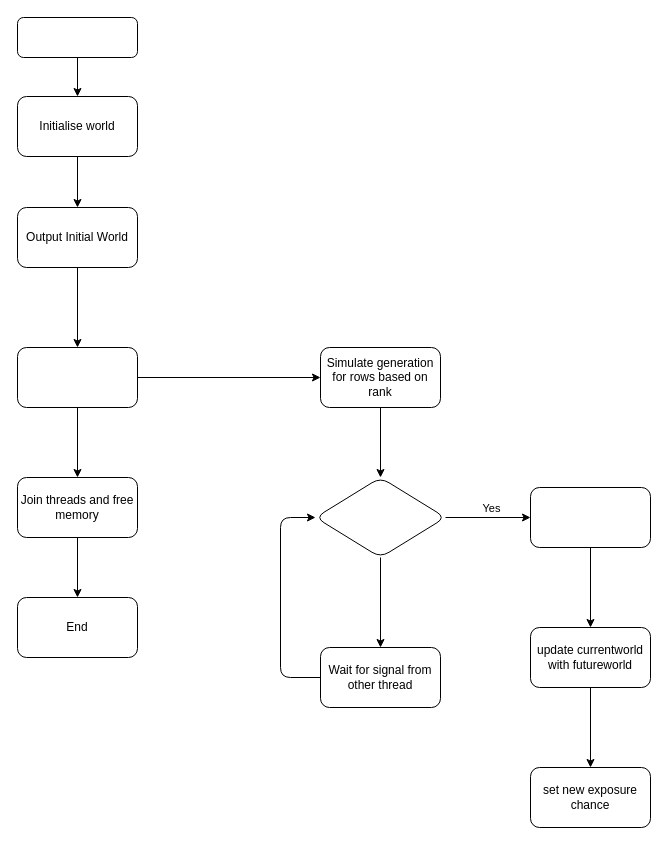
The diagram is 668 pixels wide and 845 high, and some of its shapes have lost their labels. The centre of each missing label's shape, as x and y in pixels:
"Create threads" belongs at pixel 77 377.
"Define macros and Arrays" belongs at pixel 77 37.
"have other threads finished?" belongs at pixel 380 517.
"Output generation to files" belongs at pixel 590 517.
